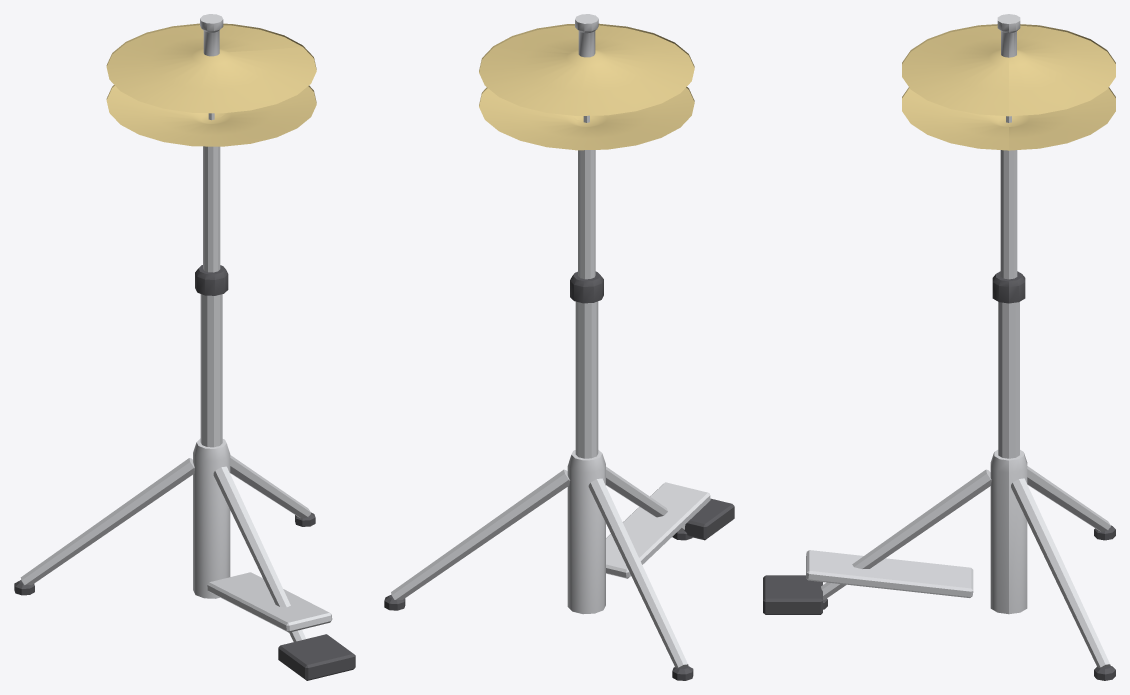
Rendered from hihat-stand.glb.
The picture shows the model from 3 angles, left to right: view 1: azimuth 30°, elevation 25°; view 2: azimuth 150°, elevation 25°; view 3: azimuth 270°, elevation 25°; orthographic projection. The views are drawn at different scales.
Parts seen in each view (by area): view 1: hi-hat-stand, hi-hat/brass, hi-hat/metal; view 2: hi-hat-stand, hi-hat/brass, hi-hat/metal; view 3: hi-hat-stand, hi-hat/brass, hi-hat/metal.
Part boxes in pixels (x1=…): hi-hat-stand: x1=14, y1=85, x2=355, y2=680; hi-hat/brass: x1=106, y1=23, x2=316, y2=113; hi-hat/metal: x1=200, y1=14, x2=223, y2=56; hi-hat-stand: x1=384, y1=87, x2=734, y2=680; hi-hat/brass: x1=479, y1=23, x2=694, y2=115; hi-hat/metal: x1=575, y1=14, x2=598, y2=57; hi-hat-stand: x1=763, y1=87, x2=1115, y2=680; hi-hat/brass: x1=902, y1=24, x2=1115, y2=116; hi-hat/metal: x1=997, y1=14, x2=1020, y2=57.
Size of the model in its own units: 0.5907 by 1.08 by 0.5882.
